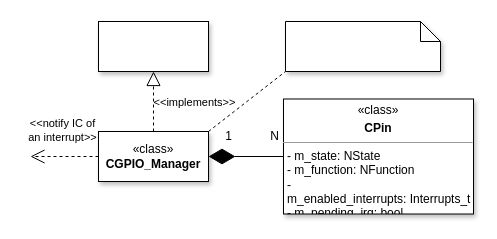
The diagram is 497 pixels wide and 239 high, and some of its shapes have lost their labels. The shapes that lost their labels are listed below. From the top down, each one's centre as x and y in pixels, then its label:
At point 154,47: "«interface» IPeripheral".
At point 363,47: "Contains a collection of registers (BCM835 manual)".
